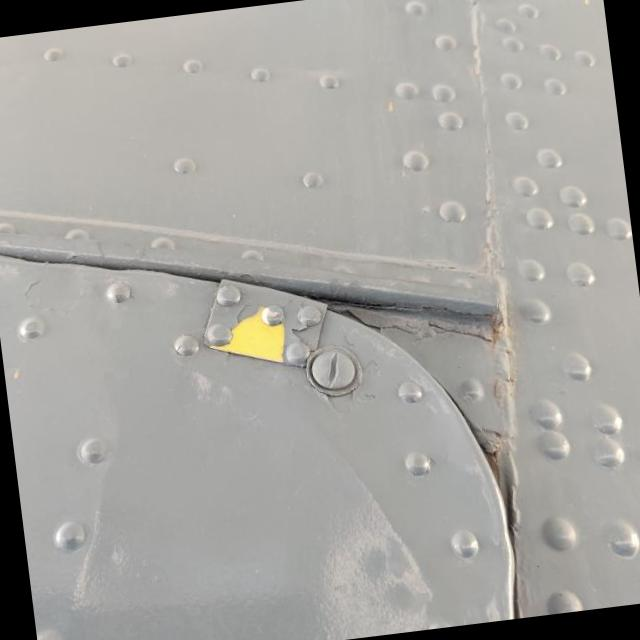Paint-off: (208, 307, 283, 362)
